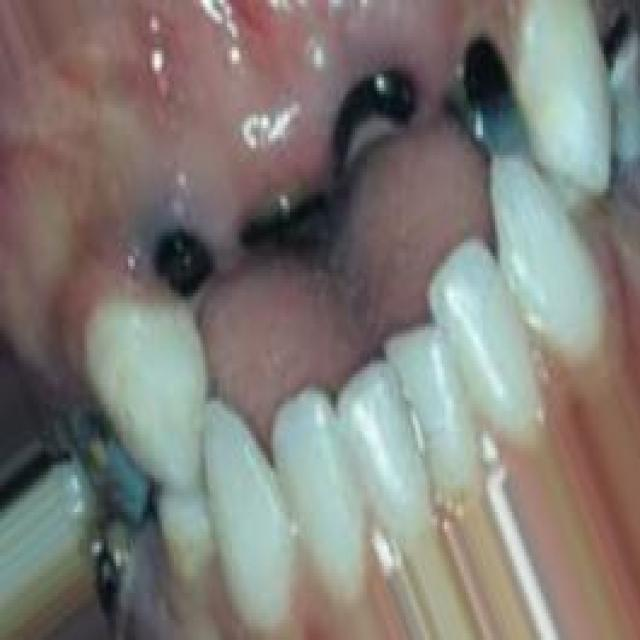caries: (313, 29, 433, 182), (446, 14, 539, 166), (230, 149, 341, 267), (130, 191, 232, 311)
